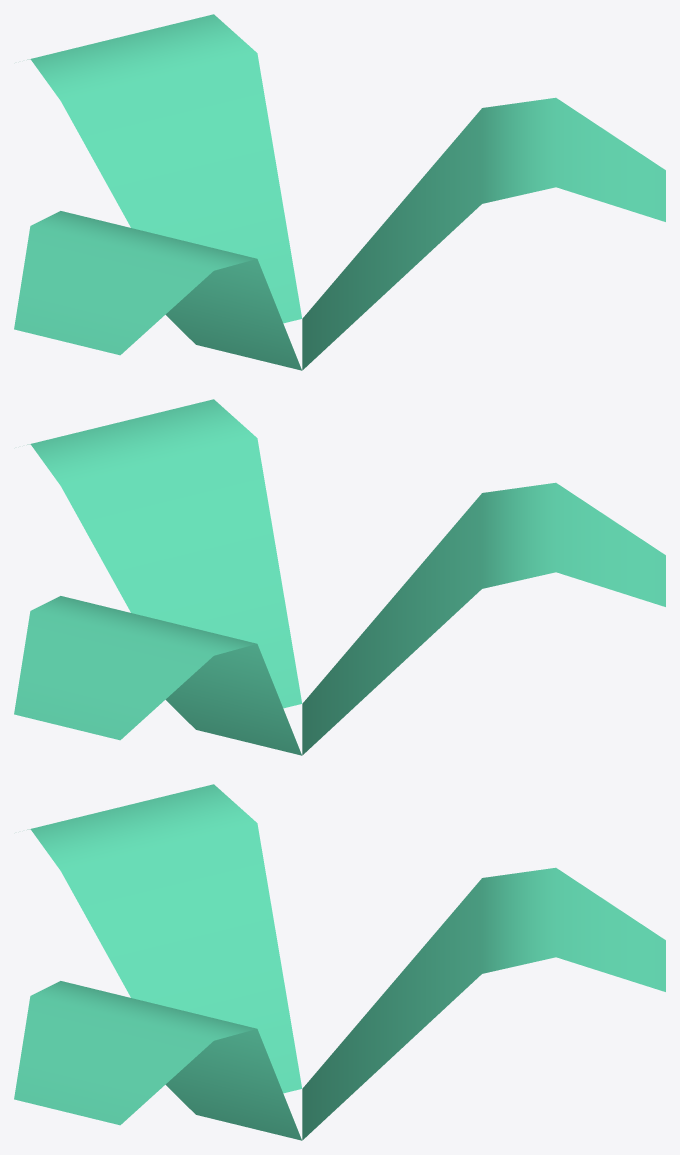
The model's file is plant.fbx.
3 views of the same model, one above another, from view 1: azimuth 30°, elevation 25°; view 2: azimuth 150°, elevation 25°; view 3: azimuth 270°, elevation 25° (orthographic).
Parts seen in each view (by area): view 1: plant; view 2: plant; view 3: plant.
Part boxes in pixels (<box>): plant: <box>14,14,665,370</box>; plant: <box>14,399,665,755</box>; plant: <box>14,784,665,1140</box>.
Size of the model in its own units: 5.51 by 1.64 by 4.78.
